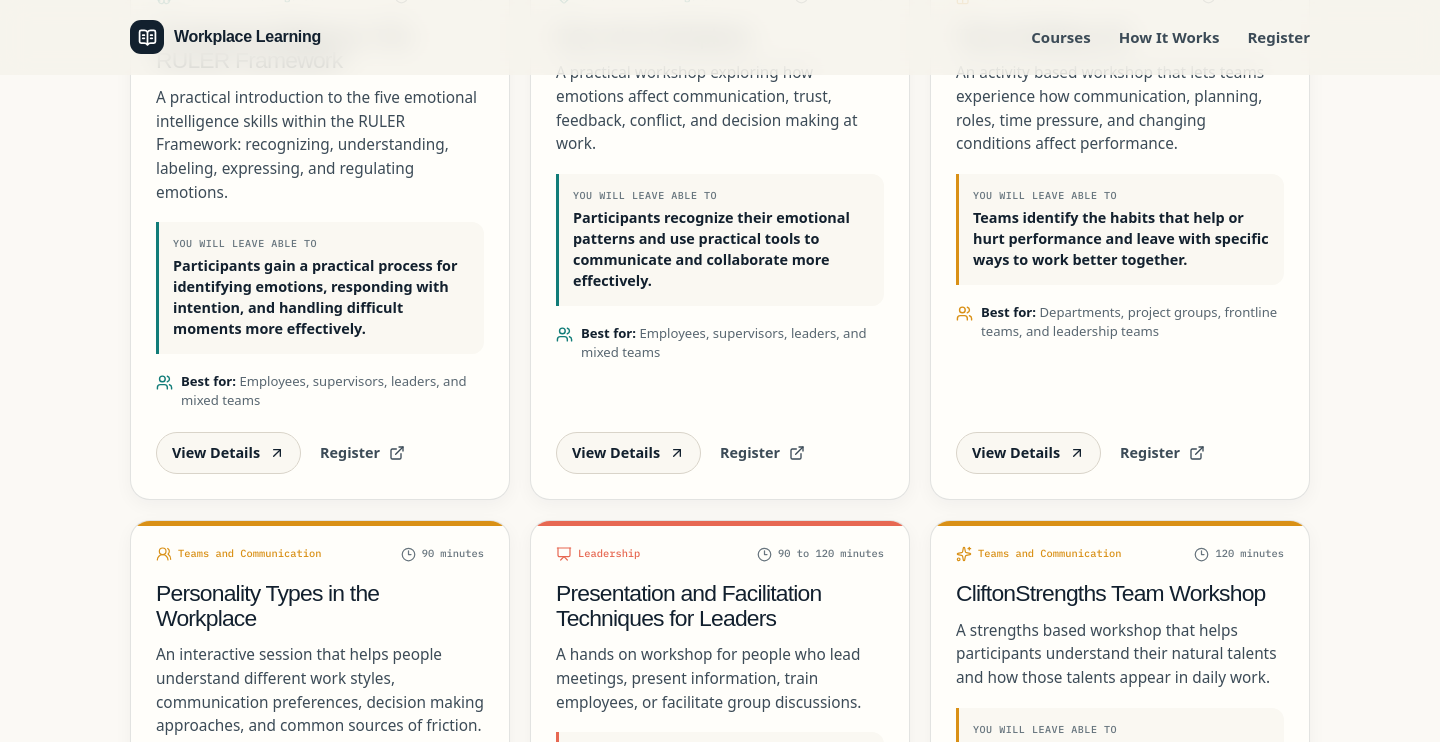
Scenario: course details › opens complete details and closes with Escape while returning focus
The width and height of the screenshot is (1440, 742).
(page scrolled)
Click the button named "View details for Emotional Intelligence: The RULER Framework".
click(228, 453)  # box [156, 432, 301, 474]
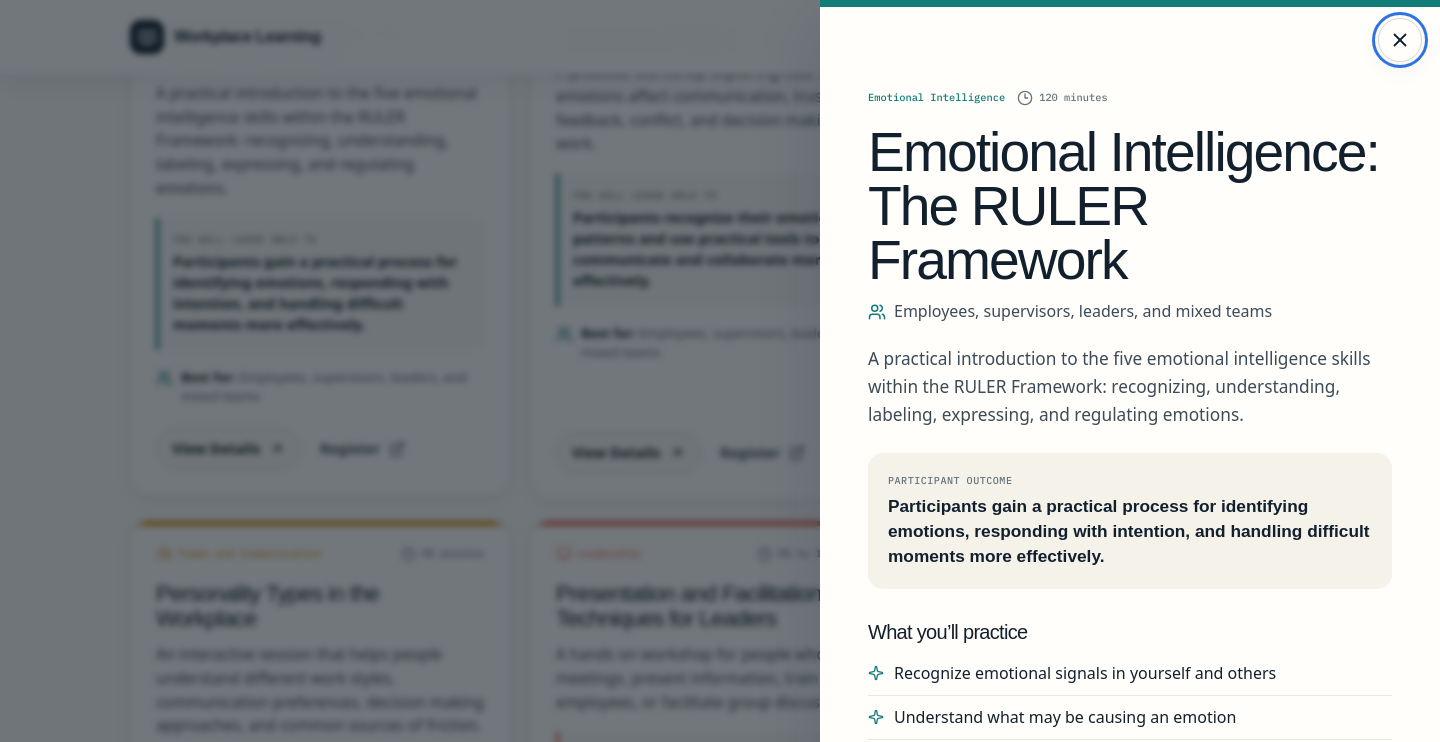
Now the text "Recognize emotional signals in yourself and others" is shown, box [894, 662, 1276, 684]
Now the text "Participant outcome" is shown, box [888, 474, 1012, 487]
Press Escape
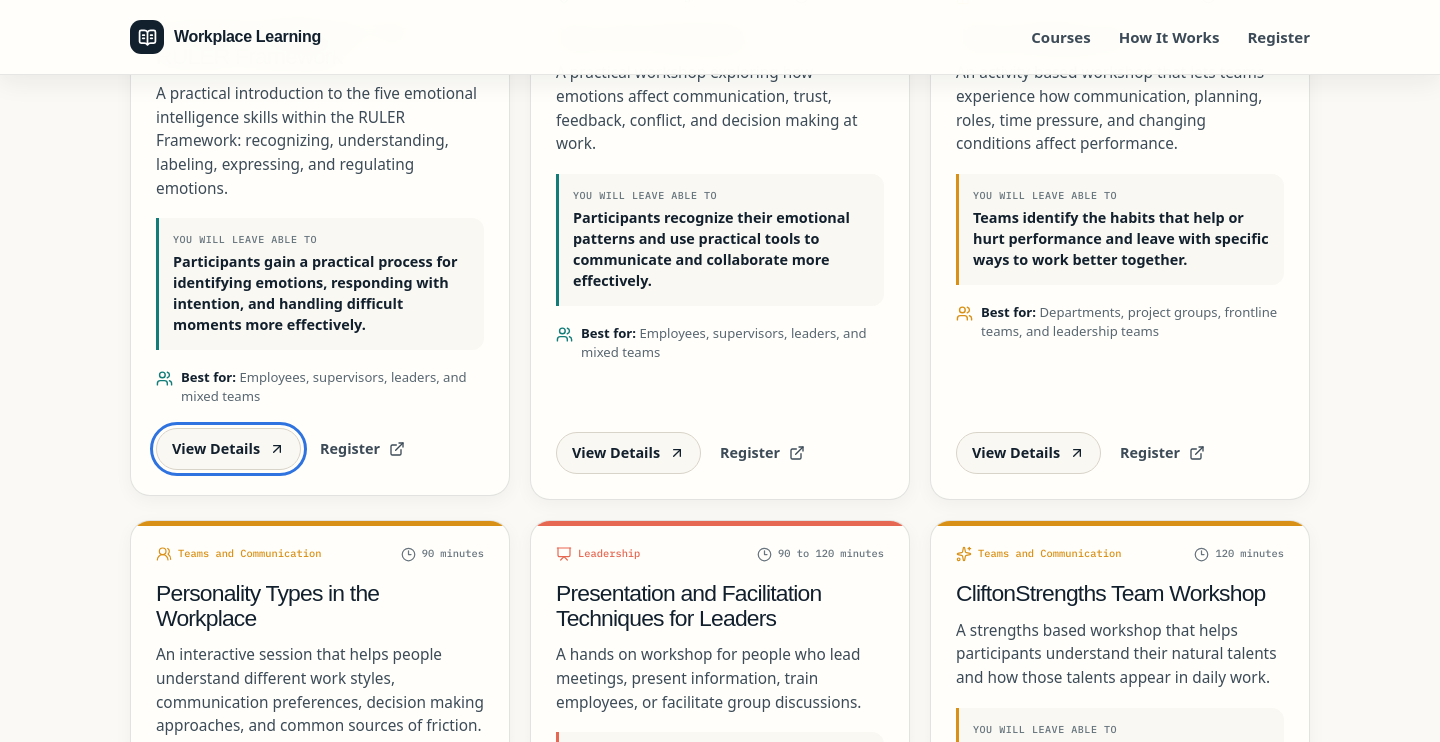
Now the dialog is gone
